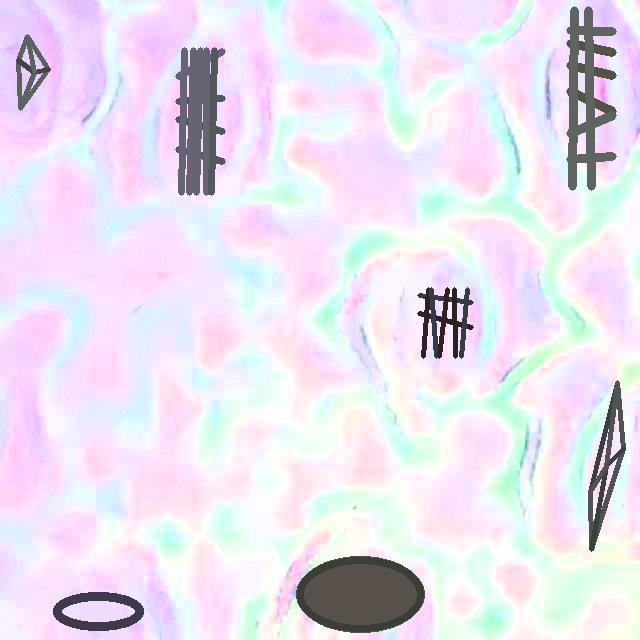close: (296, 556, 425, 632), (175, 47, 225, 195), (588, 380, 625, 551), (417, 287, 473, 358), (52, 591, 145, 632), (17, 34, 50, 110)
open: (566, 7, 616, 189)
